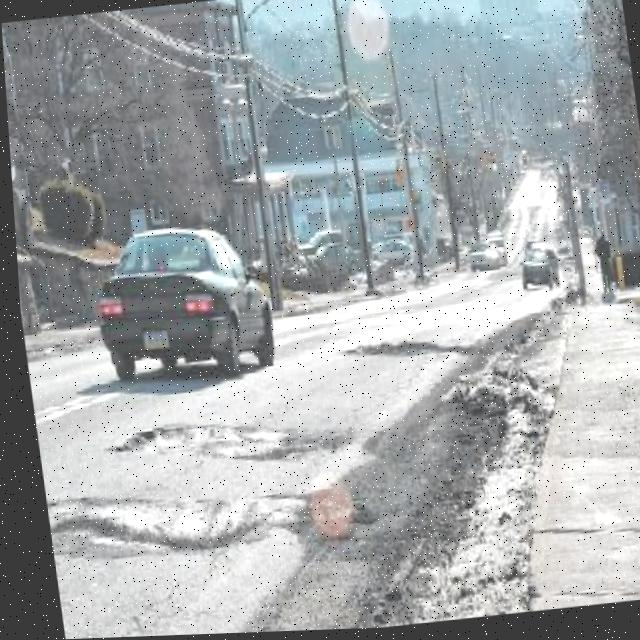Pothole: (36, 471, 259, 564), (95, 409, 292, 480), (333, 335, 440, 365)
